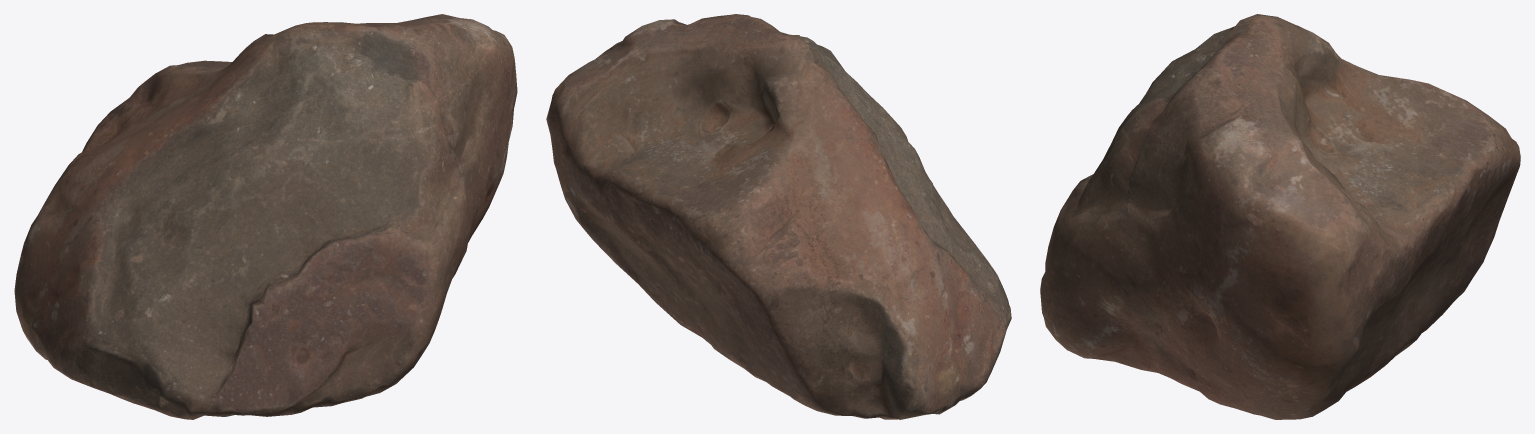
The model's file is SM_wfnhegp_tier_2.gltf.
3 views of the same model, side by side, from view 1: azimuth 30°, elevation 25°; view 2: azimuth 150°, elevation 25°; view 3: azimuth 270°, elevation 25° (orthographic). The views are drawn at different scales.
Visible parts, largest first — view 1: wfnhegp_LOD2_TIER2_000; view 2: wfnhegp_LOD2_TIER2_000; view 3: wfnhegp_LOD2_TIER2_000.
Part boxes in pixels (<box>): wfnhegp_LOD2_TIER2_000: <box>14,14,517,419</box>; wfnhegp_LOD2_TIER2_000: <box>546,14,1011,419</box>; wfnhegp_LOD2_TIER2_000: <box>1040,14,1520,419</box>.
Bounding box in the file's own units: 0.1789 × 0.12 × 0.1453.
Materials: 1 (1 with a texture image).
